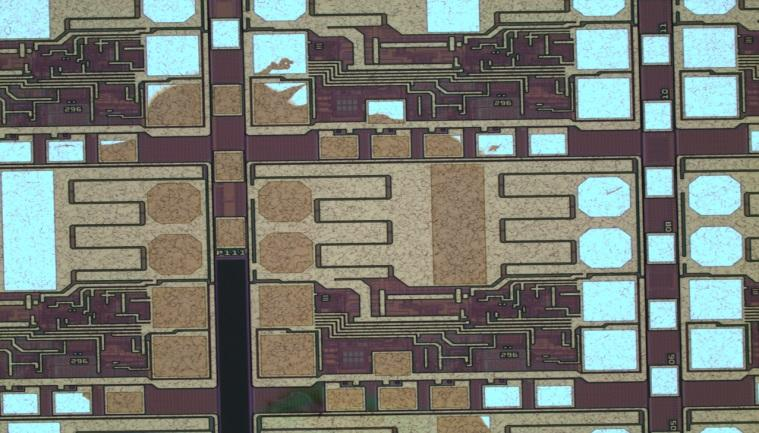BLOCK ETCH: (41, 53, 623, 433)
